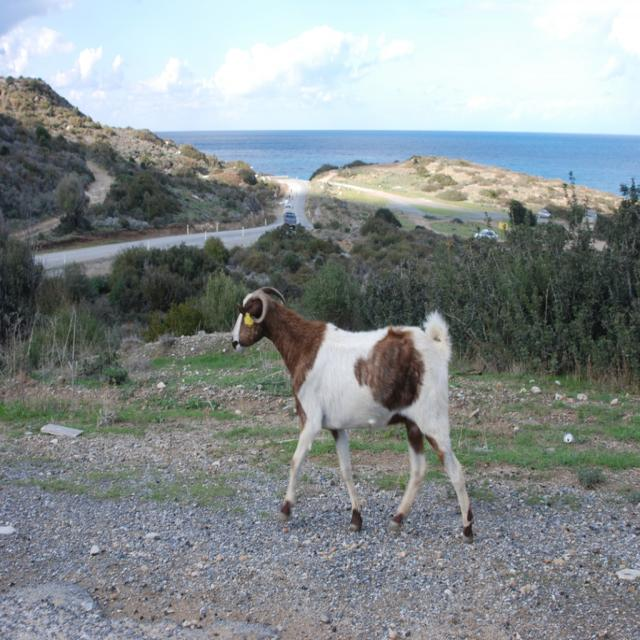Goat: (244, 291, 474, 534)
